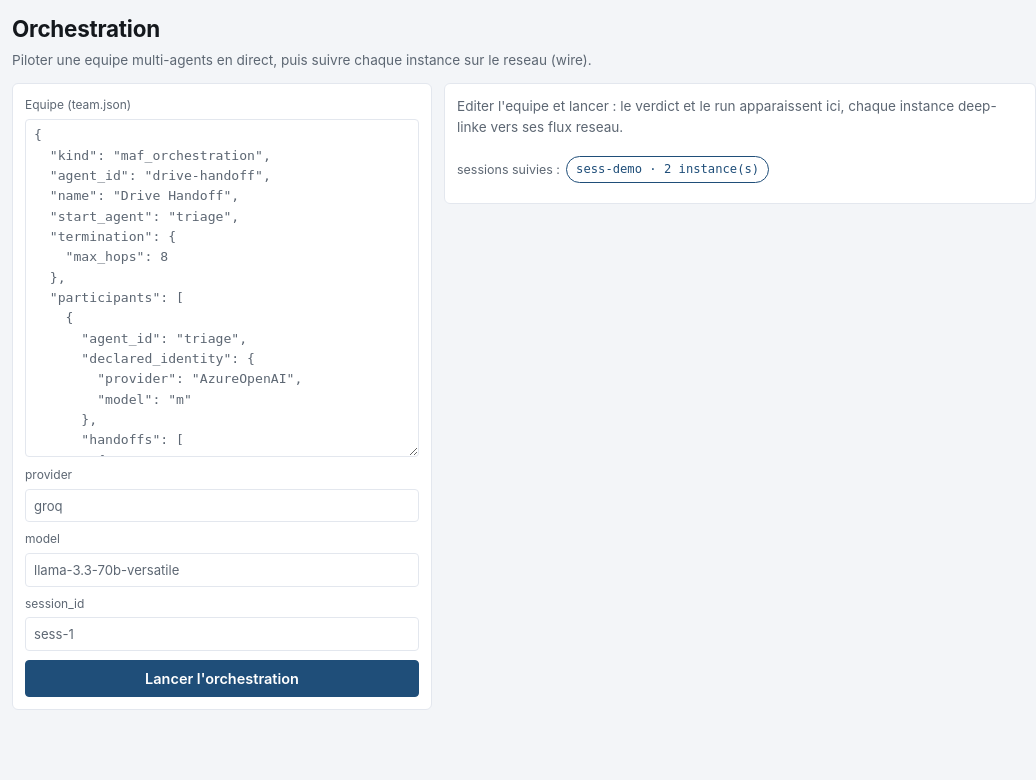
Scenario: OrchestratePage (R16 contract) › drives a run and shows the verdict, hops and instance deep-links
Click the button with test id "orchestrate-run". click: [222, 679]
box: [25,660,419,698]
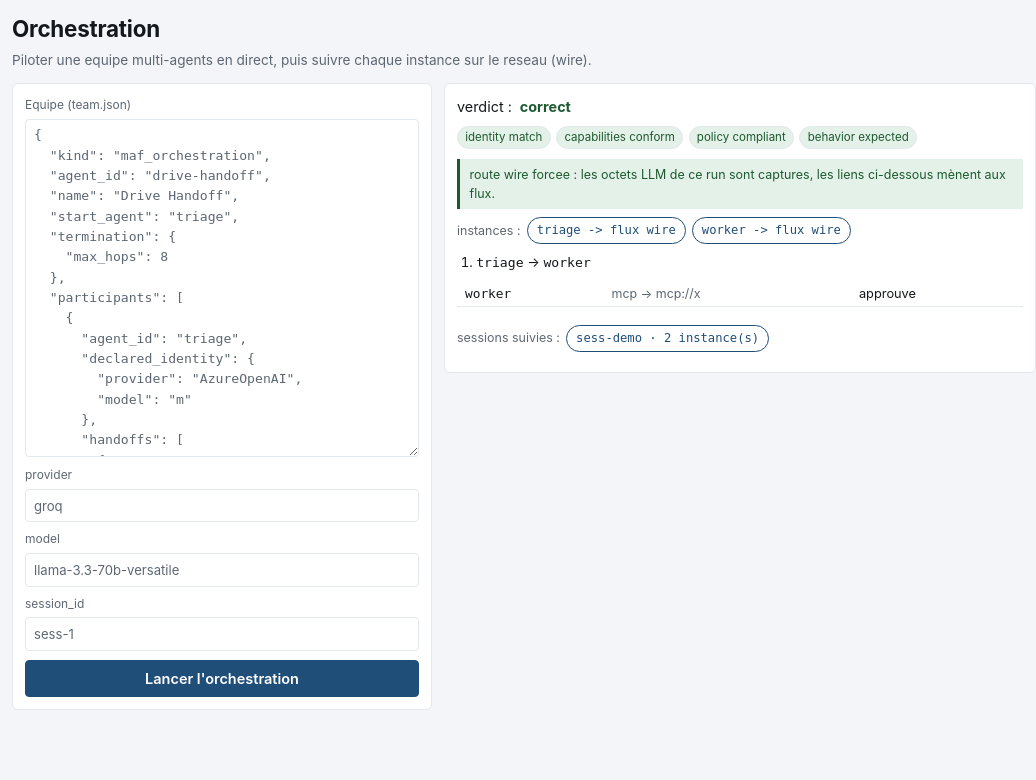
Expected: the element with test id "orchestrate-verdict" shows "correct", [520,98,571,115]
Expected: the number of list items is 1, [476,254,591,270]
